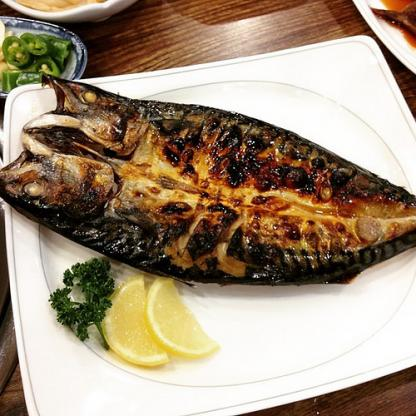Peixe: (0, 70, 416, 342)
